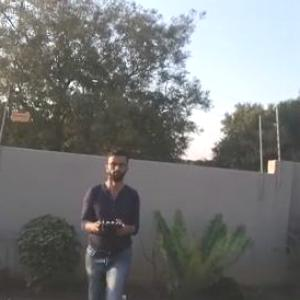follow: (76, 133, 146, 299)
